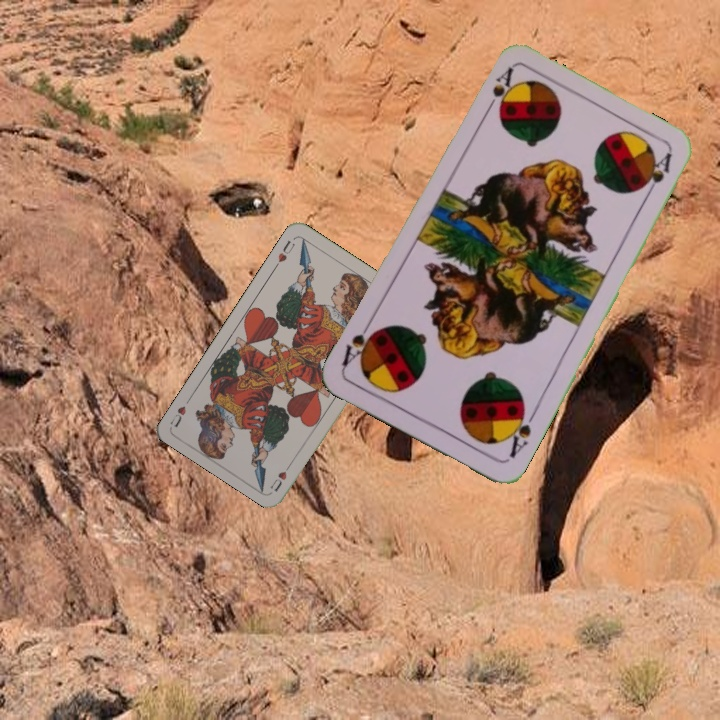HU: (266, 458, 295, 494), (271, 236, 298, 271)
SA: (501, 403, 539, 461), (480, 64, 516, 118)
